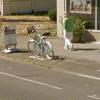Bicycle: (18, 23, 63, 66)
